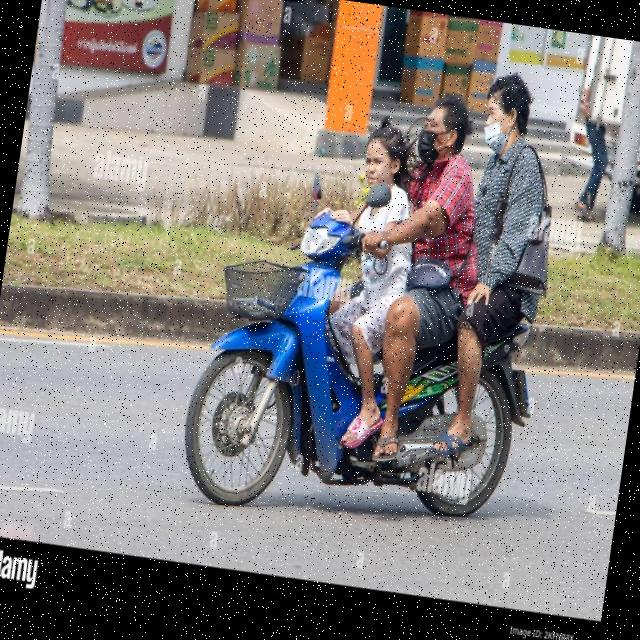Triple riding: (322, 54, 573, 378)
